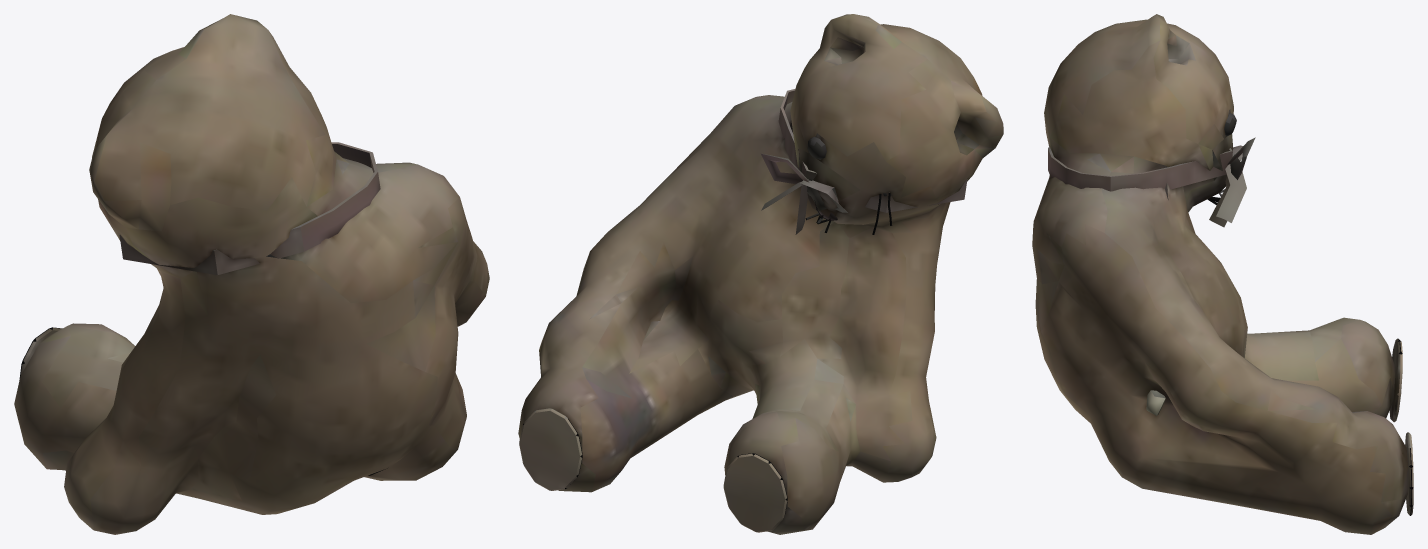
File: dressing_toys.glb
3 renders of one model, left to right at view 1: azimuth 30°, elevation 25°; view 2: azimuth 150°, elevation 25°; view 3: azimuth 270°, elevation 25°, orthographic. The views are drawn at different scales.
Visible parts, largest first — view 1: dressing_toys; view 2: dressing_toys; view 3: dressing_toys.
Boxes of the visible parts, <box> form: dressing_toys: <box>14,14,489,534</box>; dressing_toys: <box>518,14,1003,534</box>; dressing_toys: <box>1032,14,1413,534</box>.
Size of the model in its own units: 0.2852 by 0.3235 by 0.2669.
1 material, 1 textured.
